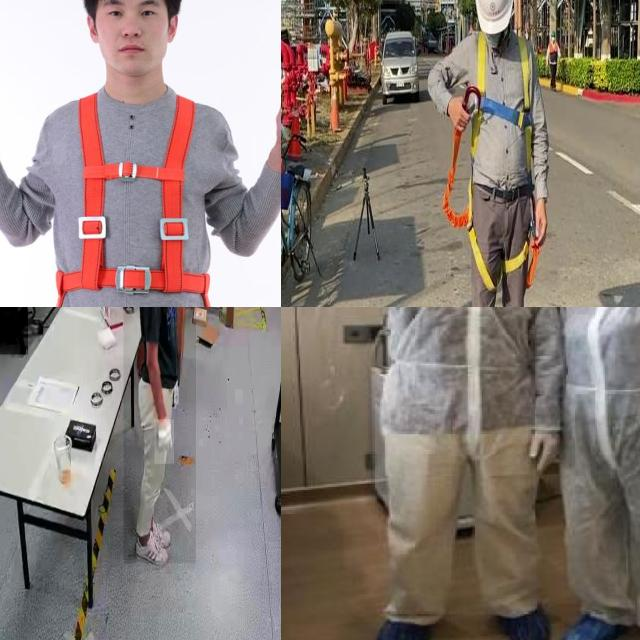Harness: (45, 90, 216, 307), (443, 131, 541, 292), (463, 32, 533, 170)
No_Glasses: (104, 1, 160, 26)
hand_glove: (522, 422, 562, 479), (154, 419, 174, 465)
person: (321, 307, 578, 640), (552, 307, 640, 640), (123, 307, 196, 564)
shoes: (361, 605, 444, 640), (488, 599, 556, 640), (558, 606, 631, 640), (134, 529, 170, 572), (140, 508, 172, 553)
